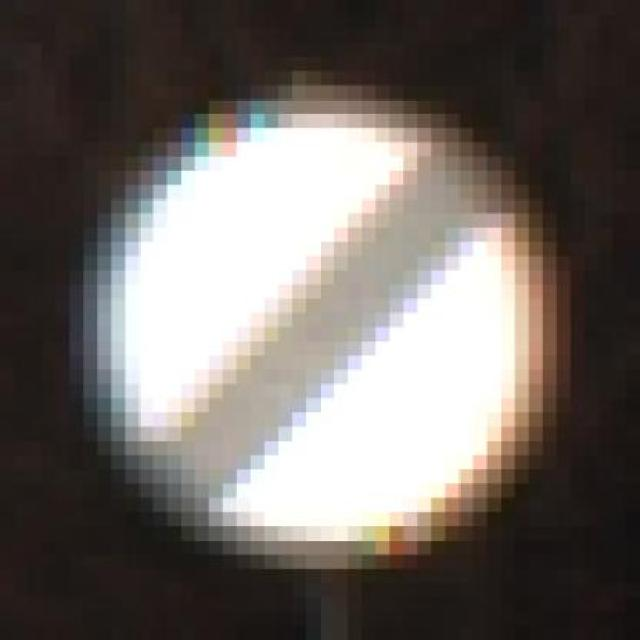End of all speed and passing limits: (83, 57, 585, 583)
